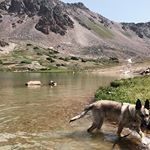puppy: (64, 97, 150, 140)
